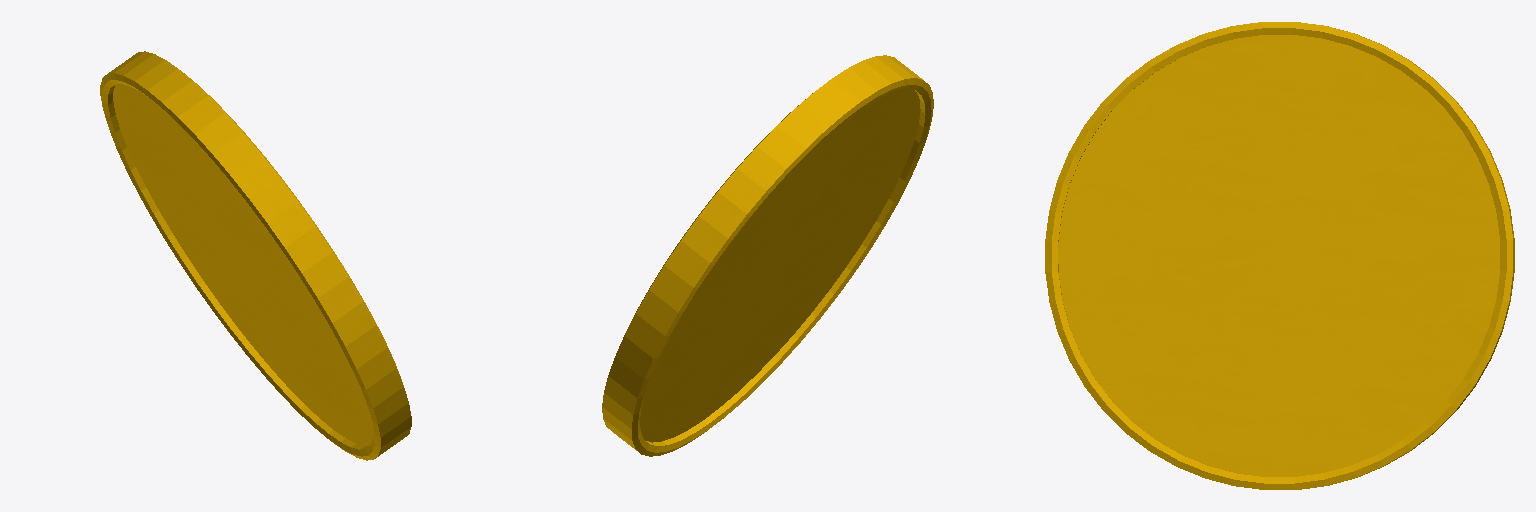
3 views of the same model, side by side, from view 1: azimuth 30°, elevation 25°; view 2: azimuth 150°, elevation 25°; view 3: azimuth 270°, elevation 25° (orthographic).
Visible parts, largest first — view 1: GoldCoinBlank; view 2: GoldCoinBlank; view 3: GoldCoinBlank.
Boxes of the visible parts, x1,y1,x2,y2 form: GoldCoinBlank: [100, 51, 411, 460]; GoldCoinBlank: [602, 55, 933, 456]; GoldCoinBlank: [1045, 22, 1514, 489].
Bounding box in the file's own units: 0.711 × 1.33 × 1.42.
Materials: 1 (1 with a texture image).